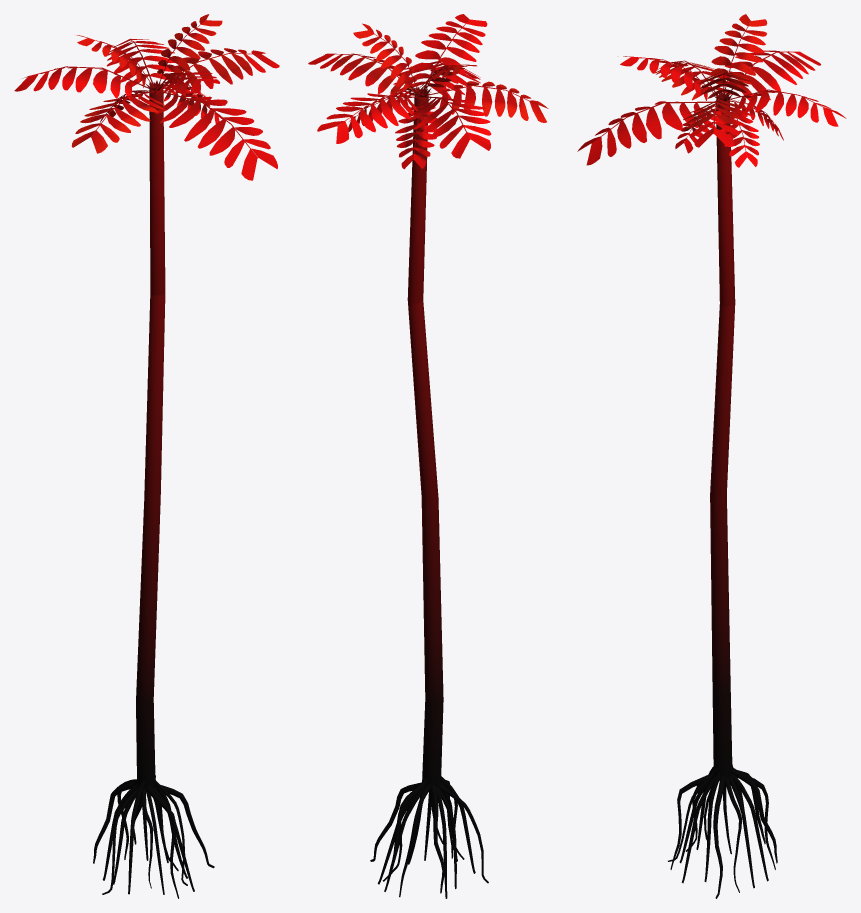
Rendered from MESH_Jungle_Palm_02.fbx.
3 views of the same model, side by side, from view 1: azimuth 30°, elevation 25°; view 2: azimuth 150°, elevation 25°; view 3: azimuth 270°, elevation 25° (orthographic). The views are drawn at different scales.
Visible parts, largest first — view 1: MESH_Jungle_Palm_02; view 2: MESH_Jungle_Palm_02; view 3: MESH_Jungle_Palm_02.
Boxes of the visible parts, <box> form: MESH_Jungle_Palm_02: <box>14,14,279,898</box>; MESH_Jungle_Palm_02: <box>308,14,548,898</box>; MESH_Jungle_Palm_02: <box>577,14,846,898</box>.
Bounding box in the file's own units: 7.81 × 29.15 × 8.55.
